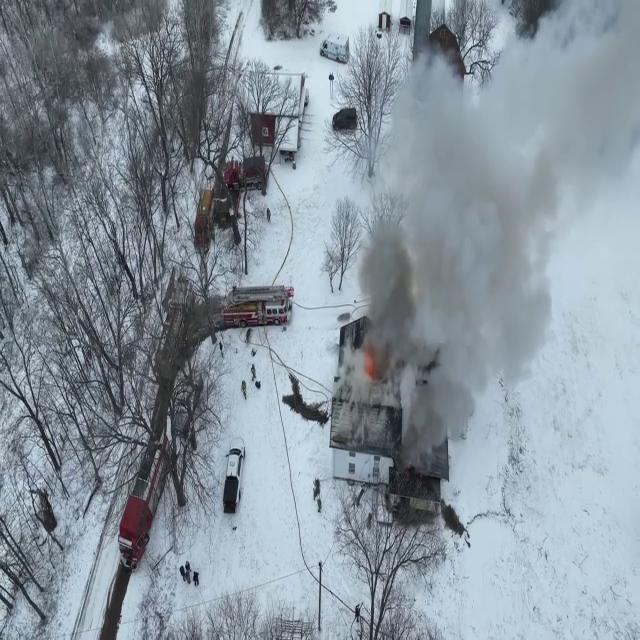Smoke: (342, 1, 638, 474)
